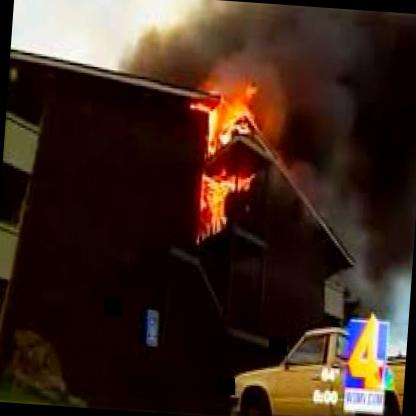fire: (172, 48, 276, 275)
